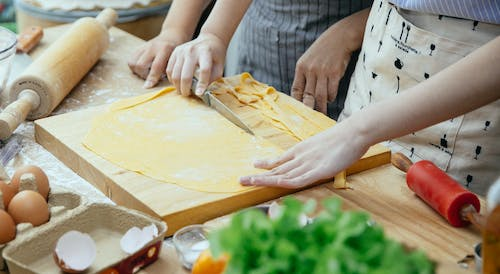knife: (190, 74, 255, 135)
